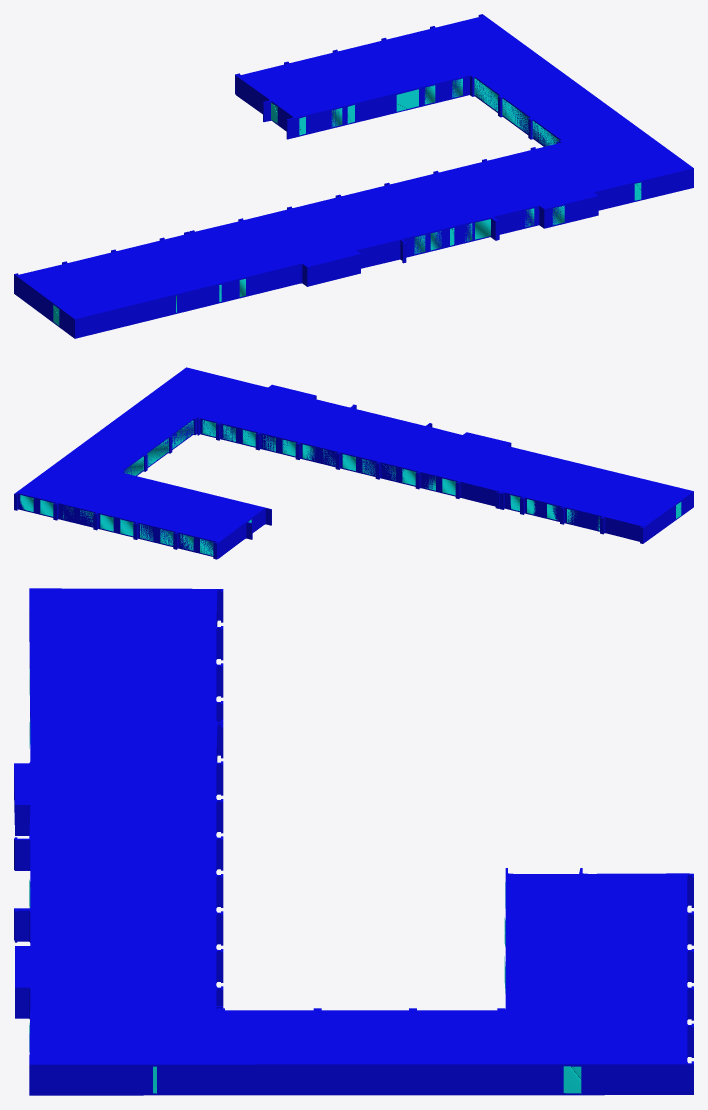
The picture shows the model from 3 angles, top to bottom: view 1: azimuth 30°, elevation 25°; view 2: azimuth 150°, elevation 25°; view 3: azimuth 270°, elevation 25°; orthographic projection. The views are drawn at different scales.
Parts seen in each view (by area): view 1: group_out_solid_mesh, group_out_windows_mesh; view 2: group_out_solid_mesh, group_out_windows_mesh; view 3: group_out_solid_mesh, group_out_windows_mesh.
Part boxes in pixels (x1=…): group_out_solid_mesh: x1=14, y1=14, x2=693, y2=338; group_out_windows_mesh: x1=53, y1=78, x2=641, y2=325; group_out_solid_mesh: x1=14, y1=367, x2=693, y2=559; group_out_windows_mesh: x1=20, y1=420, x2=681, y2=555; group_out_solid_mesh: x1=14, y1=588, x2=693, y2=1095; group_out_windows_mesh: x1=29, y1=669, x2=581, y2=1093.
Size of the model in its own units: 99099 by 3000 by 59799.
